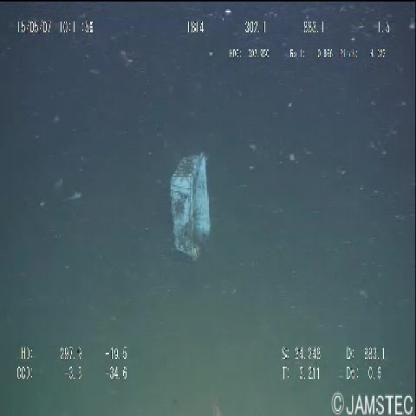Rác: (170, 153, 212, 261)
